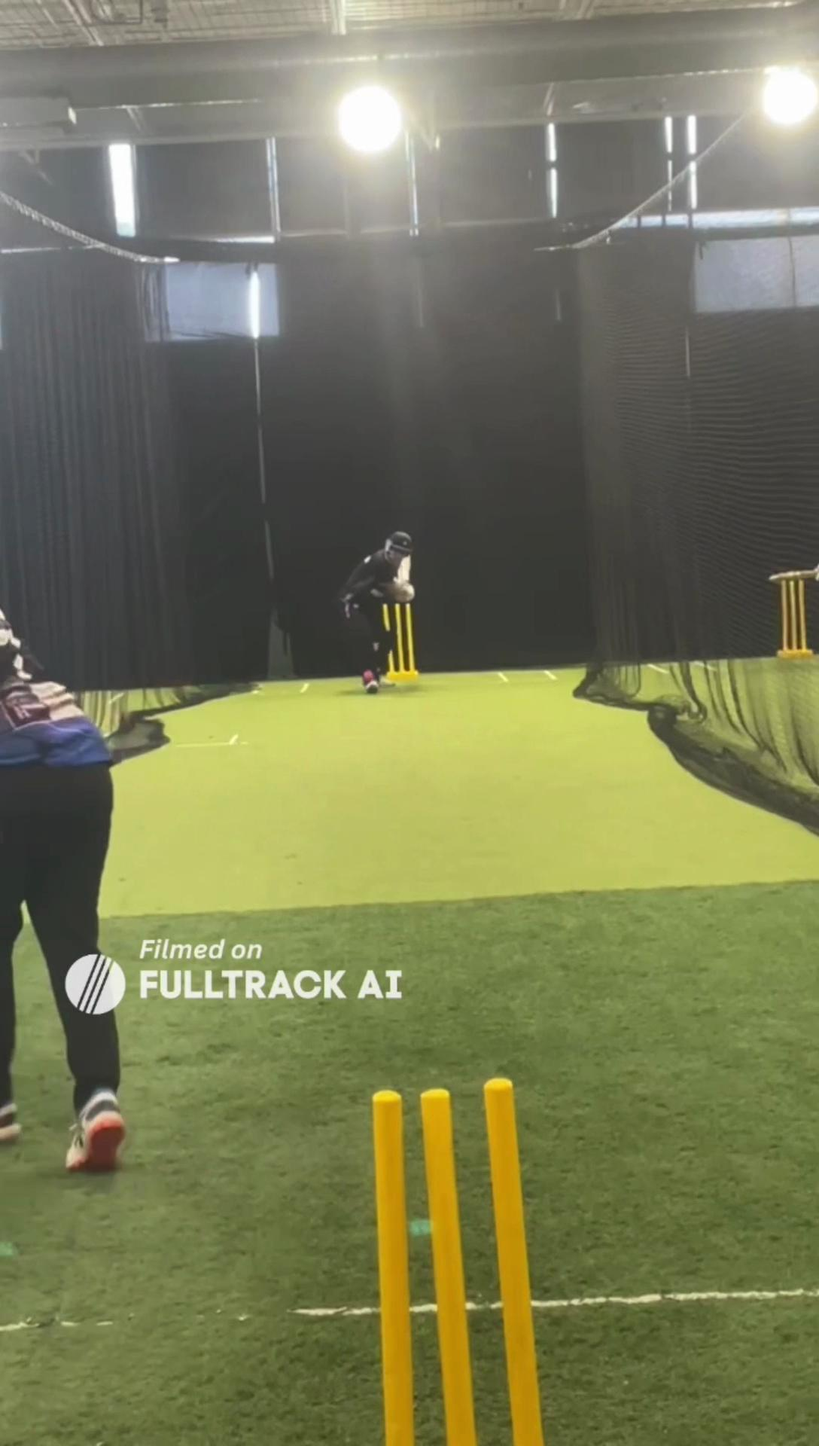ball: (362, 668, 375, 681)
